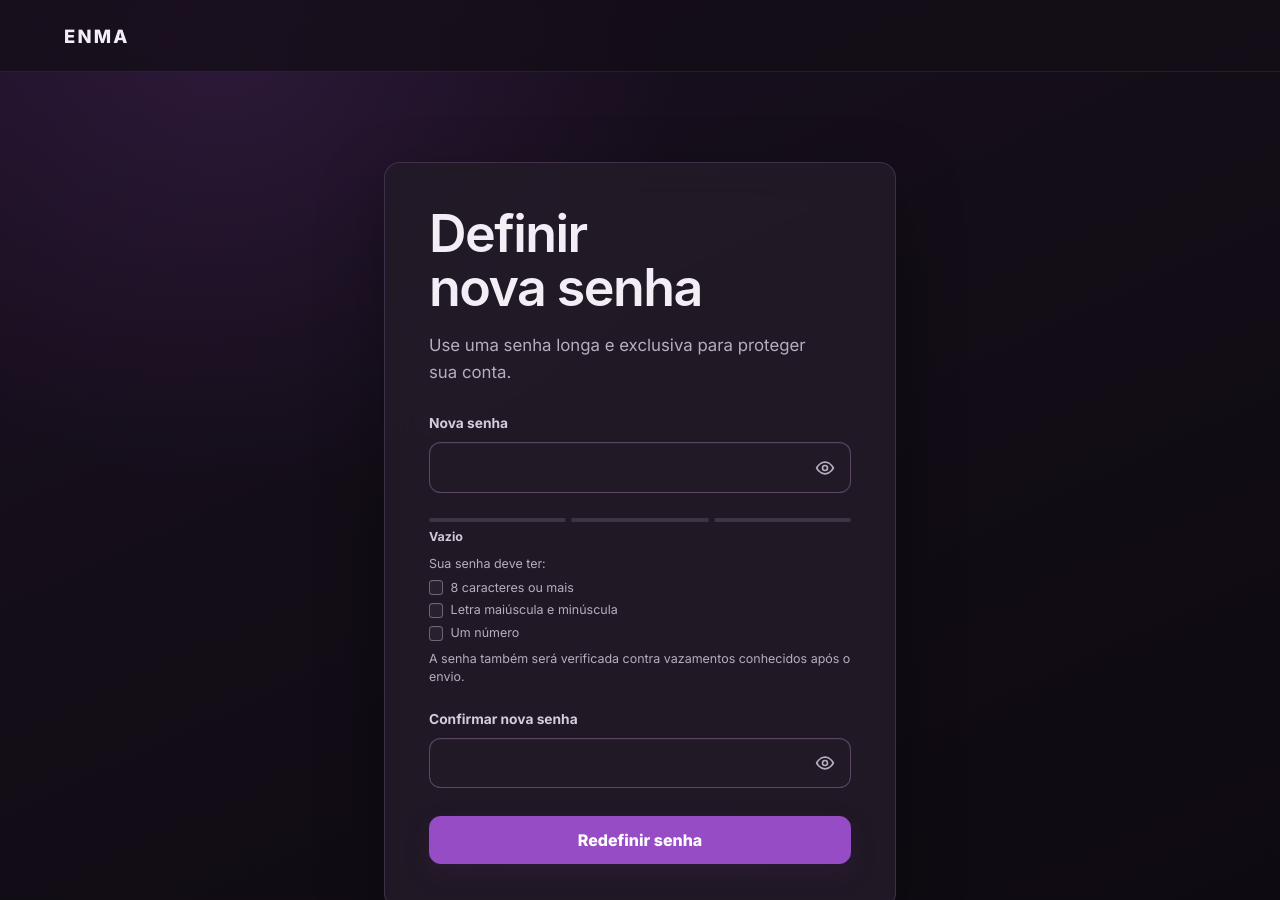
it: password recovery flow › reset keeps password visibility independent and preserves both values
This screenshot has width=1280, height=900.
Type "New-Synthetic-Password-456!" into the password field labelled "Nova senha" at (640, 468), box [429,442,851,493]
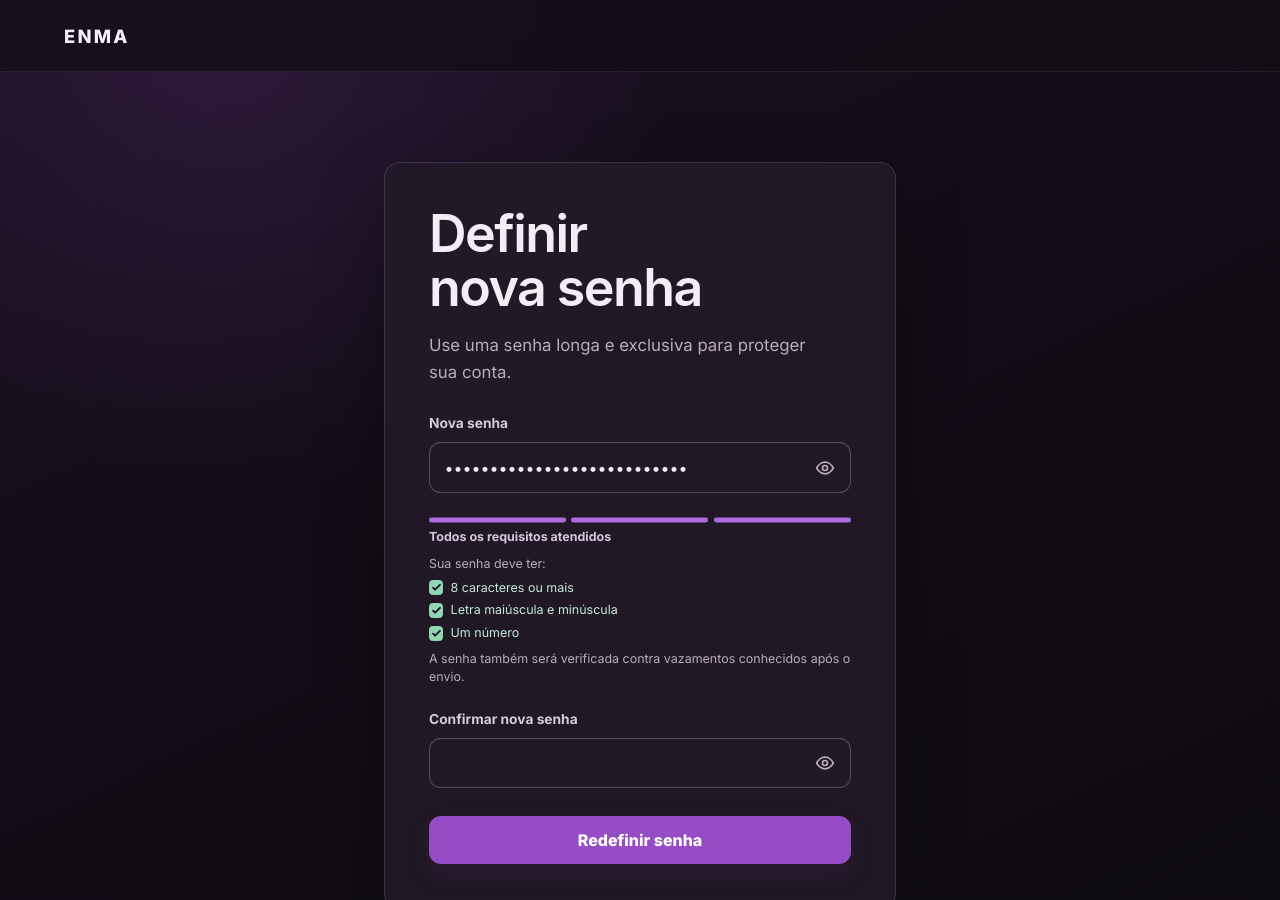
Type "New-Synthetic-Password-456!" into the password field labelled "Confirmar nova senha" at (640, 763), box [429,738,851,788]
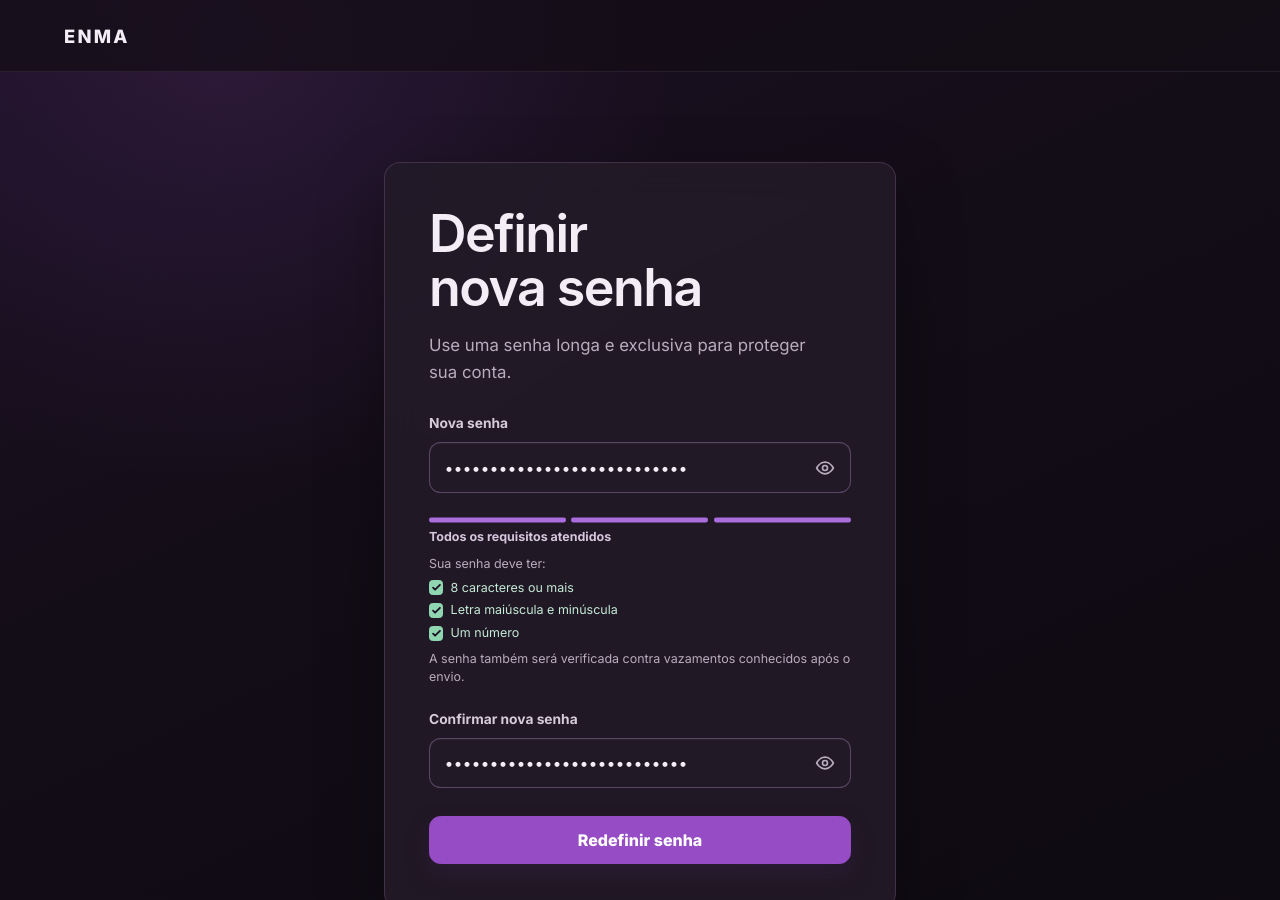
Click the 1st button named "Mostrar senha" at (825, 468), box [803,446,847,490]
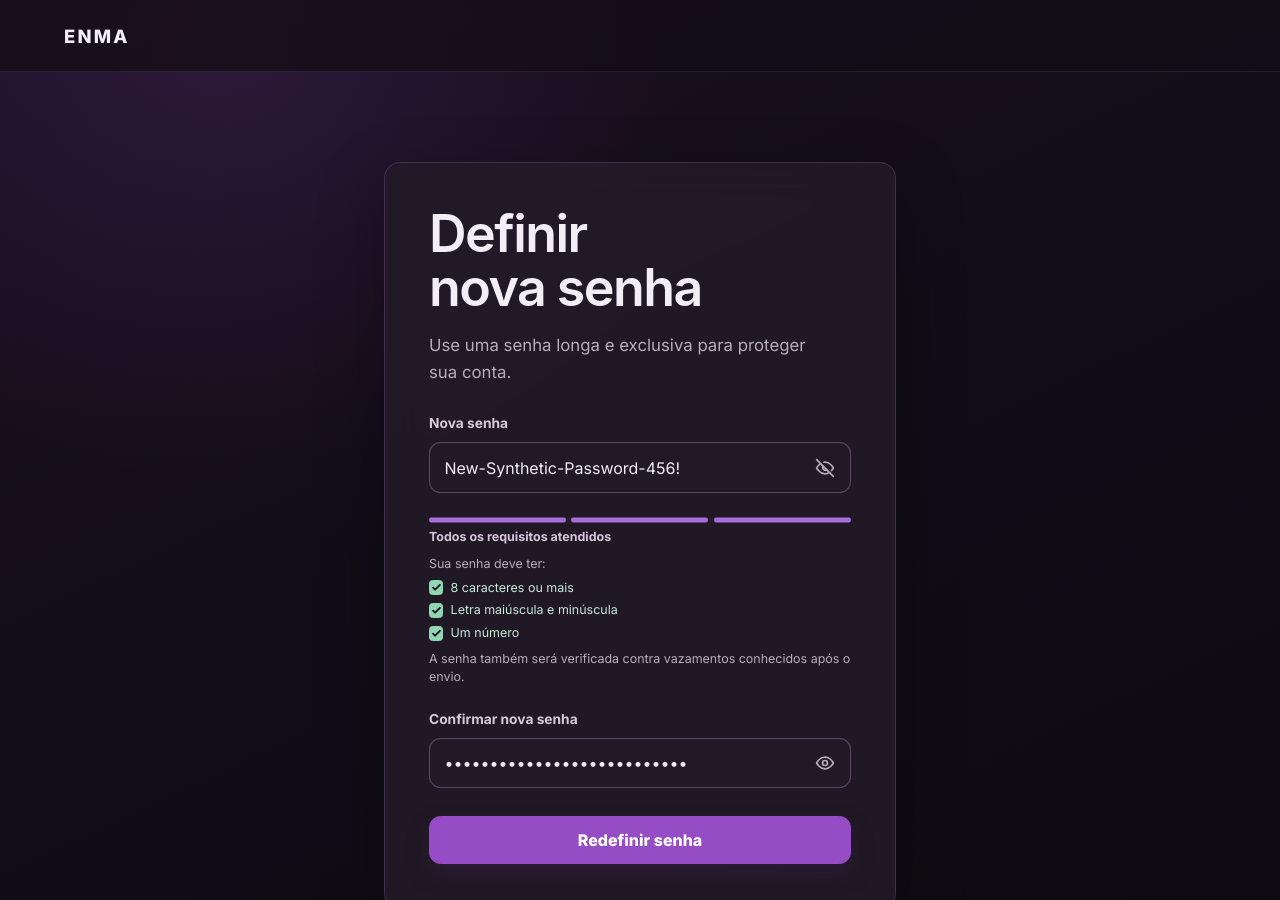
Expected: the field labelled "Nova senha" shows its text, [429,442,851,493]
Expected: the button named "Ocultar senha" is shown, [803,446,847,490]
Click the button named "Mostrar senha" at (825, 763), box [803,741,847,785]
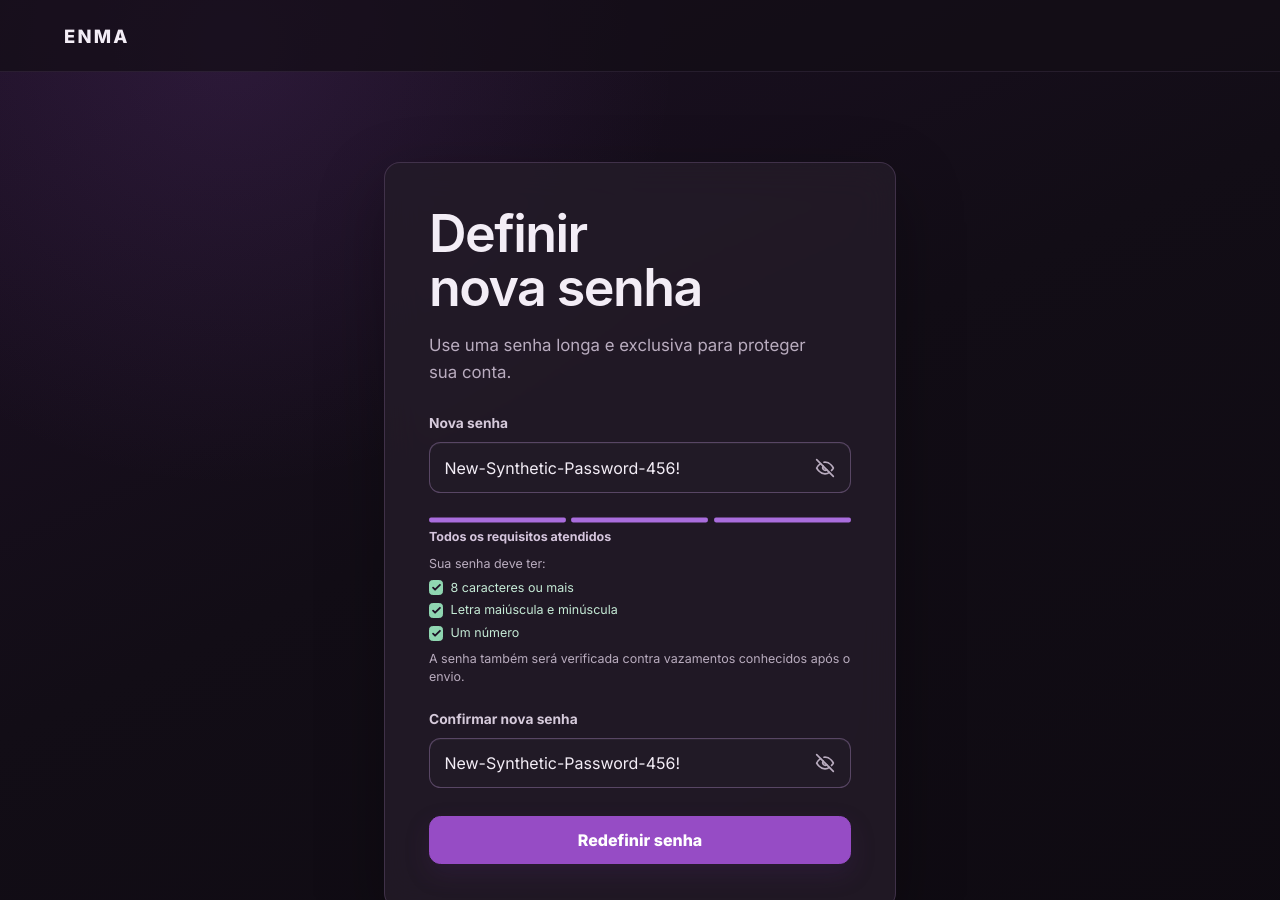
Expected: the field labelled "Nova senha" shows its text, [429,442,851,493]
Expected: the field labelled "Confirmar nova senha" shows its text, [429,738,851,788]
Click the 1st button named "Ocultar senha" at (825, 468), box [803,446,847,490]
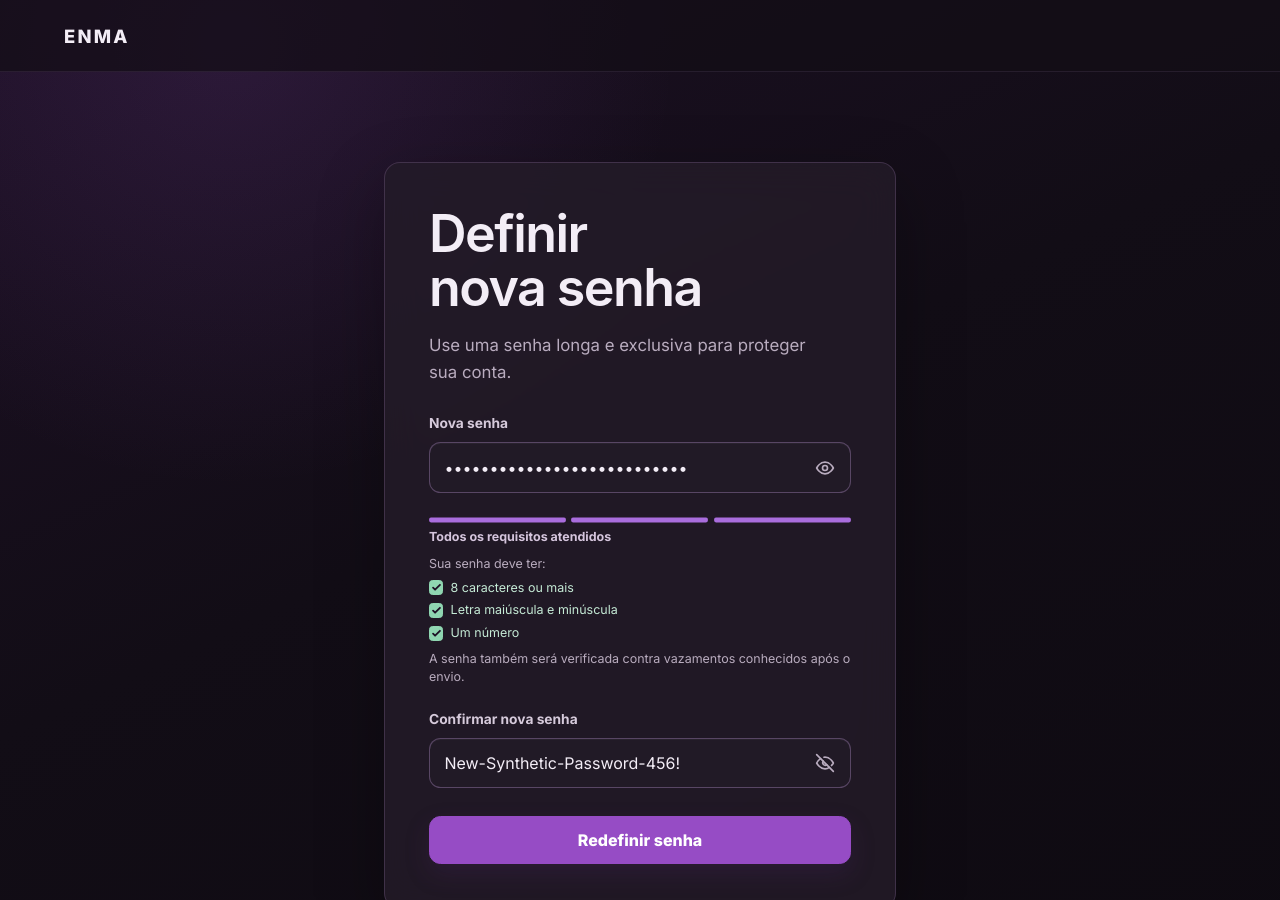
Expected: the field labelled "Confirmar nova senha" shows its text, [429,738,851,788]
Expected: the password field labelled "Nova senha" hides its text, [429,442,851,493]
